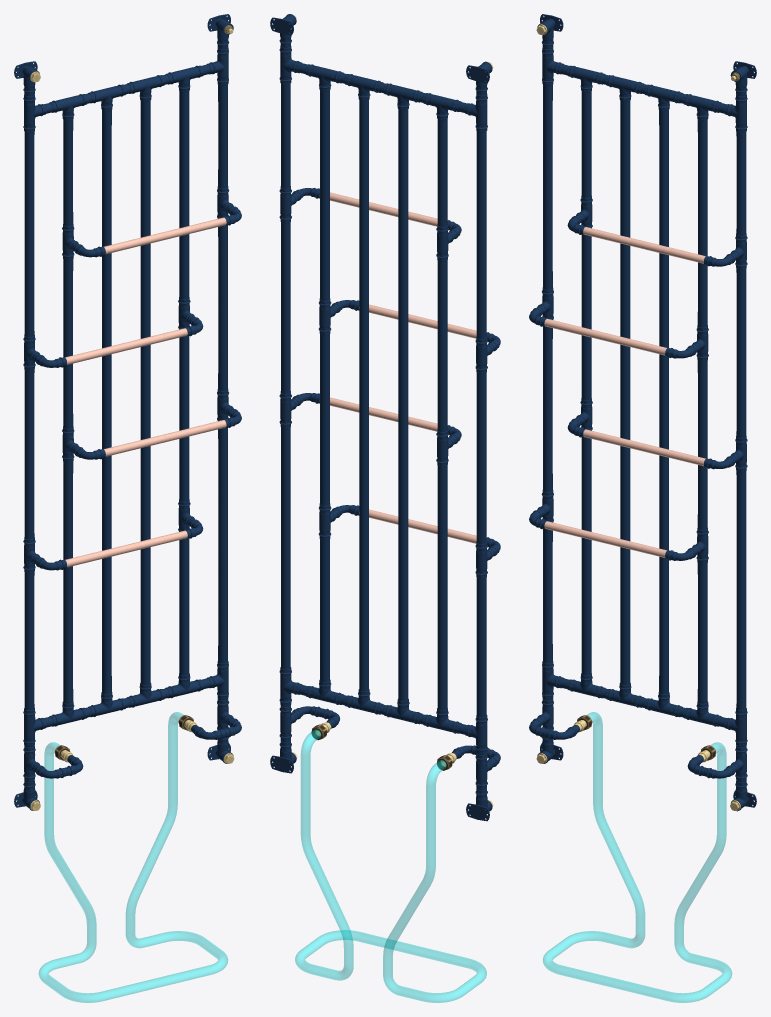
File: bambu3.glb
The picture shows the model from 3 angles, left to right: view 1: azimuth 30°, elevation 25°; view 2: azimuth 150°, elevation 25°; view 3: azimuth 330°, elevation 25°; orthographic projection.
Parts seen in each view (by area): view 1: Assemble.78, Solid.002, Assemble.82; view 2: Assemble.78, Solid.002, Assemble.82; view 3: Assemble.78, Solid.002, Assemble.82.
Part boxes in pixels (x1,y1,x2,y2): Assemble.78: [14, 14, 241, 810]; Solid.002: [39, 712, 227, 1002]; Assemble.82: [65, 217, 226, 567]; Assemble.78: [270, 14, 500, 821]; Solid.002: [295, 729, 486, 1002]; Assemble.82: [319, 192, 476, 543]; Assemble.78: [529, 14, 756, 811]; Solid.002: [543, 712, 731, 1002]; Assemble.82: [544, 227, 705, 557].
Bounding box in the file's own units: 0.5598 × 2.28 × 0.222.
6 materials, 3 textured.
